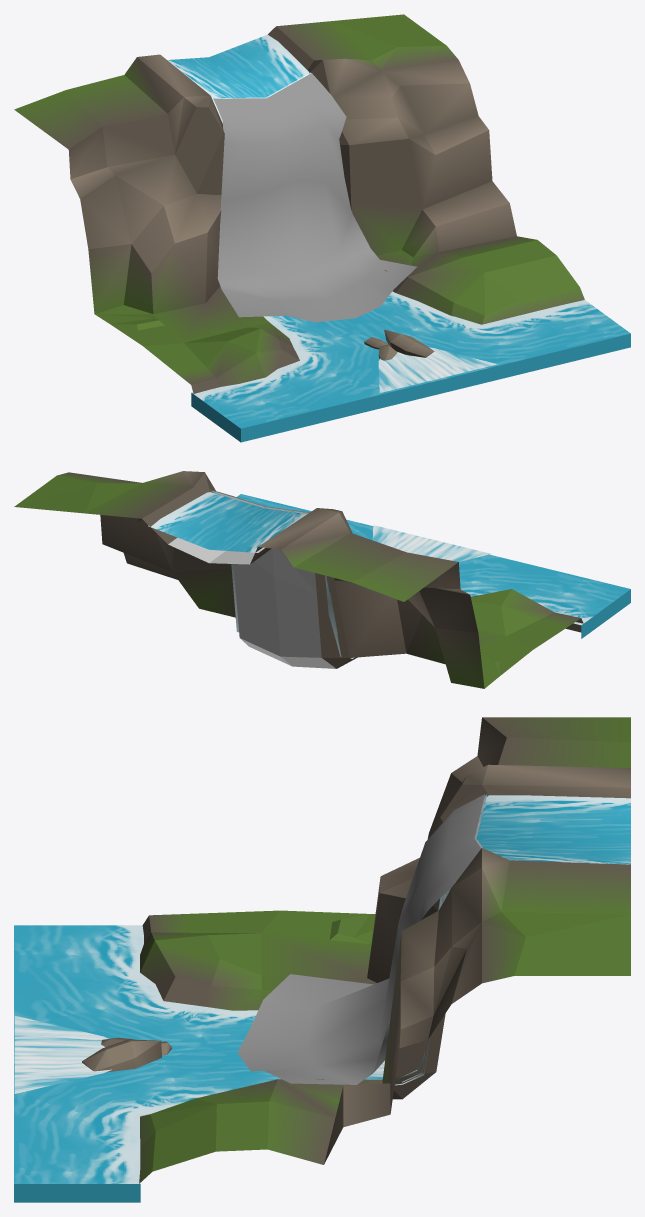
Rendered from Cliff.FBX.
The picture shows the model from 3 angles, top to bottom: view 1: azimuth 30°, elevation 25°; view 2: azimuth 150°, elevation 25°; view 3: azimuth 270°, elevation 25°; orthographic projection. The views are drawn at different scales.
Visible parts, largest first — view 1: terrain, water, mist, stoneflow; view 2: terrain, water, ground, stoneflow; view 3: terrain, water, mist, stoneflow.
Boxes of the visible parts, box(x1,y1,x2,y2) form: terrain: box(14, 14, 584, 393); water: box(167, 34, 630, 442); mist: box(213, 73, 416, 322); stoneflow: box(378, 347, 497, 392); terrain: box(14, 471, 583, 688); water: box(148, 492, 630, 658); ground: box(168, 537, 336, 668); stoneflow: box(372, 525, 490, 561); terrain: box(82, 717, 630, 1183); water: box(14, 795, 630, 1202); mist: box(237, 794, 484, 1084); stoneflow: box(14, 1015, 111, 1093).
Size of the model in its own units: 13.99 by 7.11 by 14.1.
